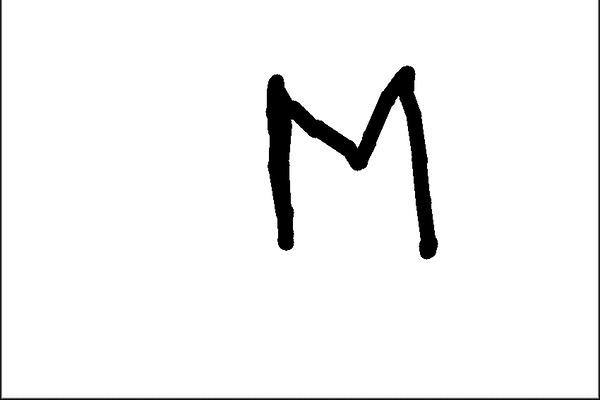M: (259, 63, 442, 258)
